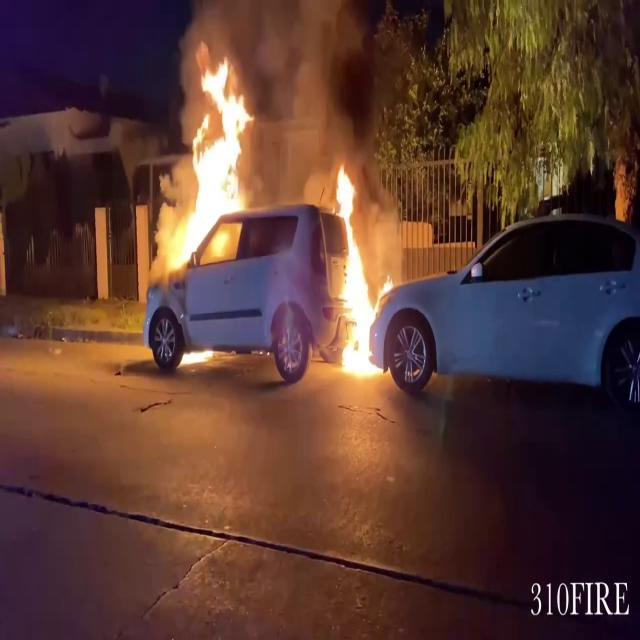Fire: (154, 50, 260, 278), (330, 160, 380, 378)
Smoke: (244, 1, 392, 177)
